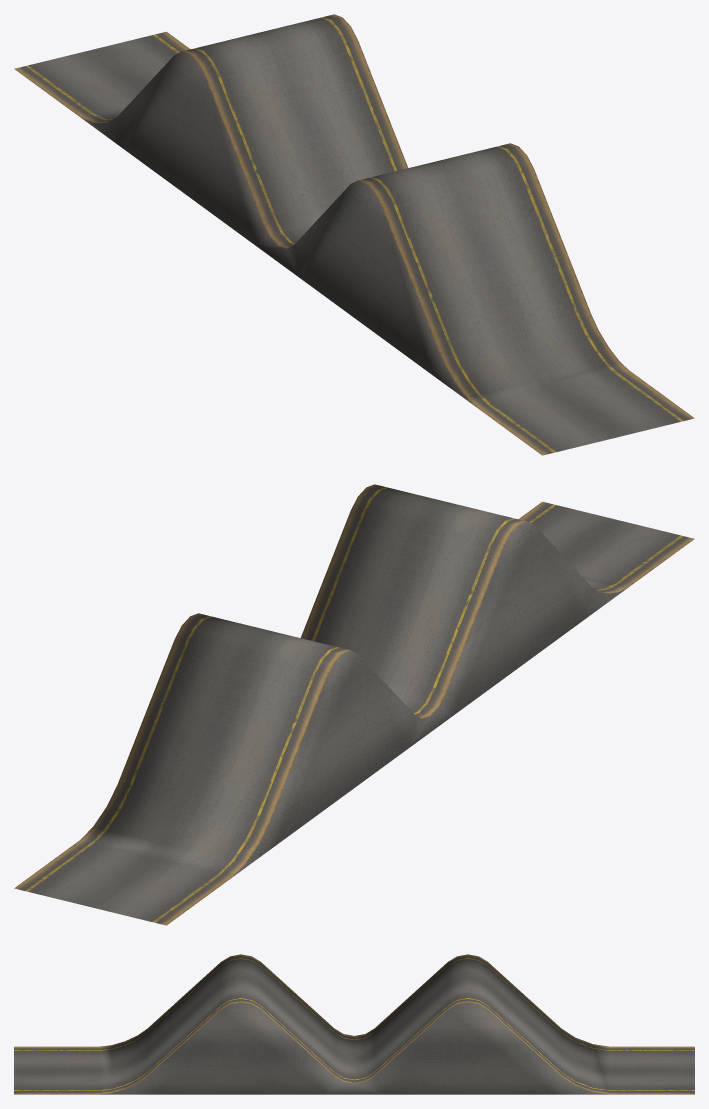
Rendered from road.101.fbx.
3 views of the same model, one above another, from view 1: azimuth 30°, elevation 25°; view 2: azimuth 150°, elevation 25°; view 3: azimuth 270°, elevation 25° (orthographic). The views are drawn at different scales.
Visible parts, largest first — view 1: road_101; view 2: road_101; view 3: road_101.
Boxes of the visible parts, x1,y1,x2,y2 form: road_101: (14,14,694,455); road_101: (14,484,694,925); road_101: (14,954,694,1094).
Bounding box in the file's own units: 8 × 7.17 × 48.
